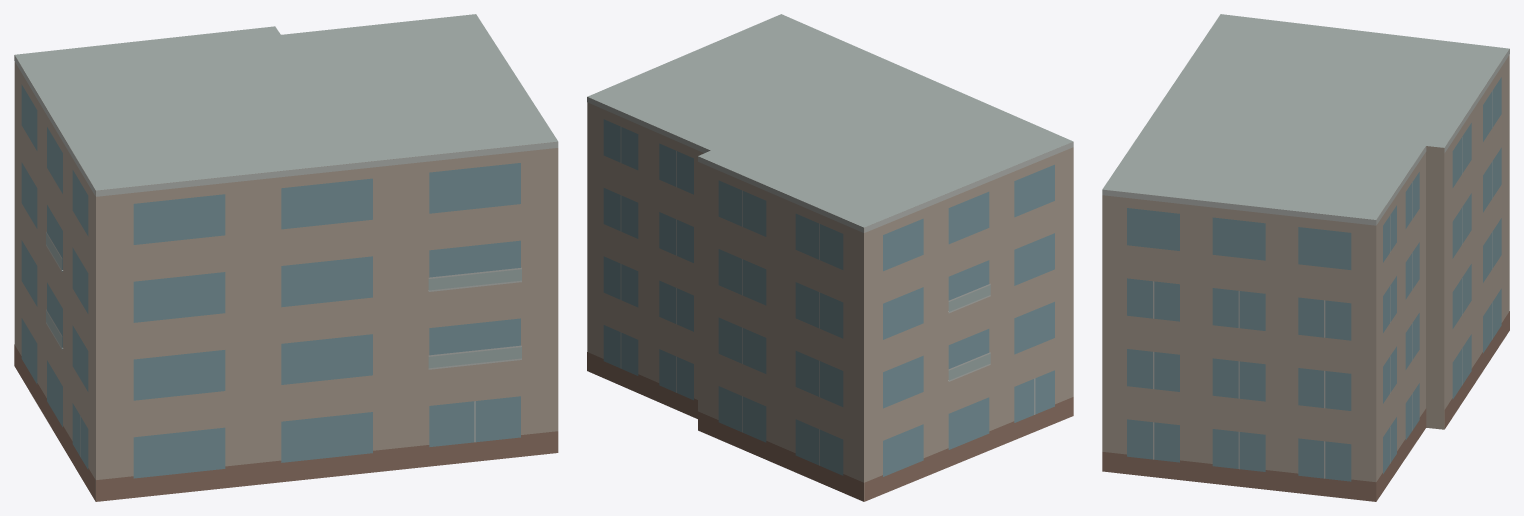
The model's file is survey-upis-32871083.glb.
3 renders of one model, left to right at view 1: azimuth 30°, elevation 25°; view 2: azimuth 150°, elevation 25°; view 3: azimuth 270°, elevation 25°, orthographic. The views are drawn at different scales.
Visible parts, largest first — view 1: survey-upis-32871083.tmp; view 2: survey-upis-32871083.tmp; view 3: survey-upis-32871083.tmp.
Part boxes in pixels (box(x1,y1,x2,y2)): survey-upis-32871083.tmp: box(14, 14, 558, 501); survey-upis-32871083.tmp: box(587, 14, 1073, 501); survey-upis-32871083.tmp: box(1102, 14, 1509, 501).
Bounding box in the file's own units: 19.14 × 12.2 × 16.
